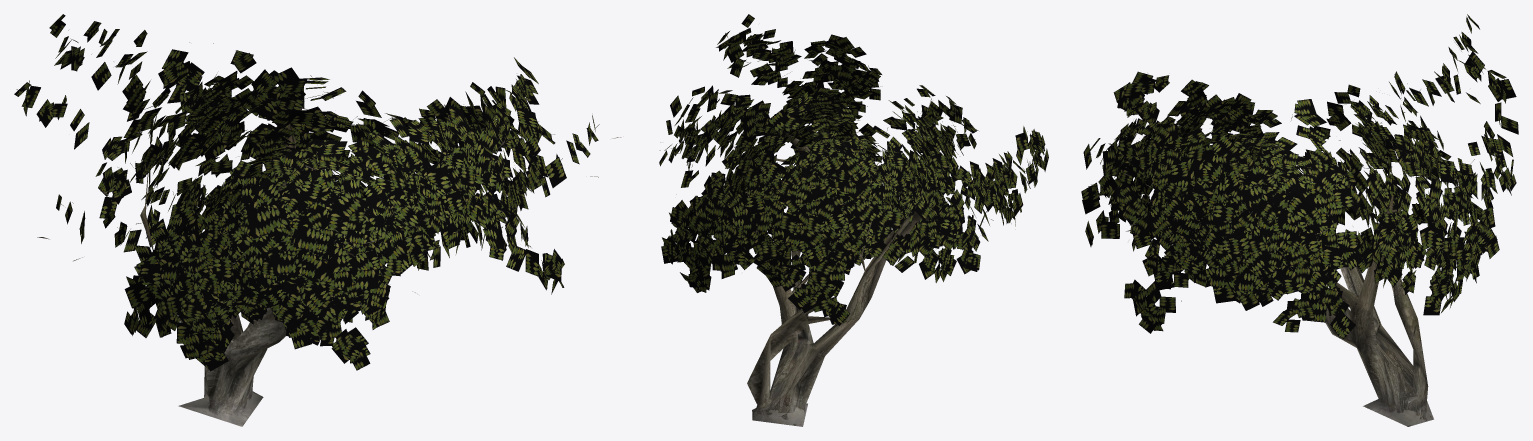
File: island_tree_02.glb
3 views of the same model, side by side, from view 1: azimuth 30°, elevation 25°; view 2: azimuth 150°, elevation 25°; view 3: azimuth 270°, elevation 25° (orthographic). The views are drawn at different scales.
Visible parts, largest first — view 1: island_tree_02_LOD0; view 2: island_tree_02_LOD0; view 3: island_tree_02_LOD0.
Boxes of the visible parts, bbox=[...] form: island_tree_02_LOD0: bbox=[14, 14, 621, 426]; island_tree_02_LOD0: bbox=[659, 14, 1048, 426]; island_tree_02_LOD0: bbox=[1081, 14, 1518, 426].
Size of the model in its own units: 4.21 by 3.49 by 4.03.
Materials: 3 (3 with a texture image).
